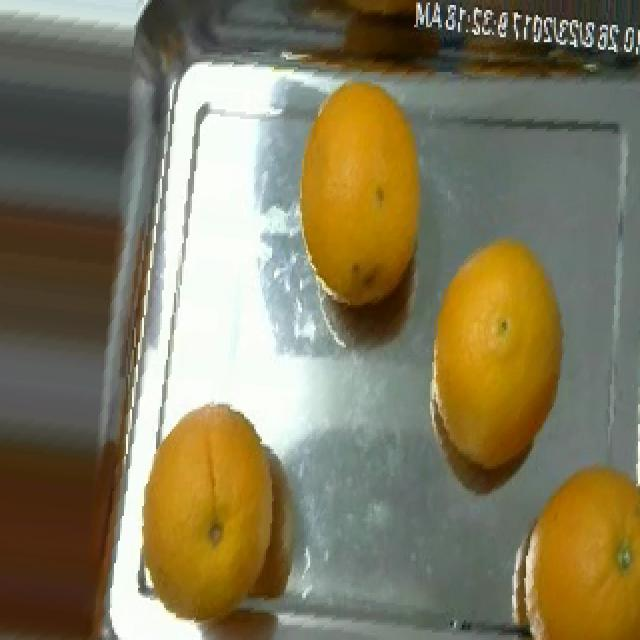Fruit: (424, 223, 576, 424), (286, 67, 438, 263)
